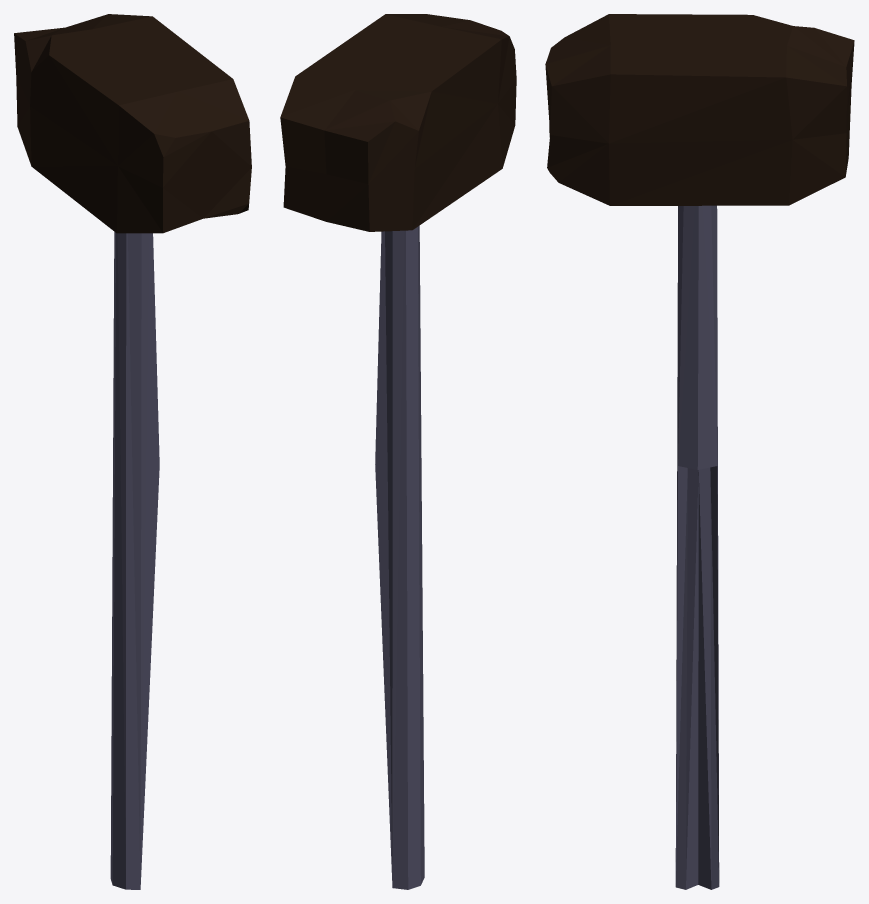
File: SFFA_Hammer_009.fbx
3 renders of one model, left to right at view 1: azimuth 30°, elevation 25°; view 2: azimuth 150°, elevation 25°; view 3: azimuth 270°, elevation 25°, orthographic. The views are drawn at different scales.
Visible parts, largest first — view 1: SFFA_Hammer_009; view 2: SFFA_Hammer_009; view 3: SFFA_Hammer_009.
Part boxes in pixels (x1,y1,x2,y2): SFFA_Hammer_009: (14, 14, 251, 889); SFFA_Hammer_009: (280, 14, 516, 889); SFFA_Hammer_009: (545, 14, 854, 889).
Bounding box in the file's own units: 10.94 × 69.8 × 23.05.
